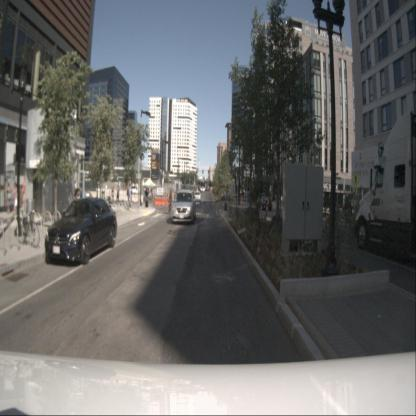human-pedestrian-adult: (74, 188, 80, 228), (5, 182, 12, 213), (22, 176, 28, 212), (13, 182, 18, 214), (127, 183, 131, 209), (116, 185, 119, 202), (147, 187, 150, 203), (112, 186, 114, 201)
movable_object-barrier: (154, 197, 164, 206), (164, 197, 172, 206)
movable_object-trafficcone: (262, 199, 270, 227), (240, 194, 244, 213)
vehicle-bicycle: (168, 188, 172, 215)
vehicle-car: (44, 197, 118, 265), (172, 190, 196, 224), (256, 196, 272, 211), (130, 184, 141, 194), (194, 190, 201, 202), (200, 186, 205, 193)
vehicle-truck: (354, 109, 415, 264)
